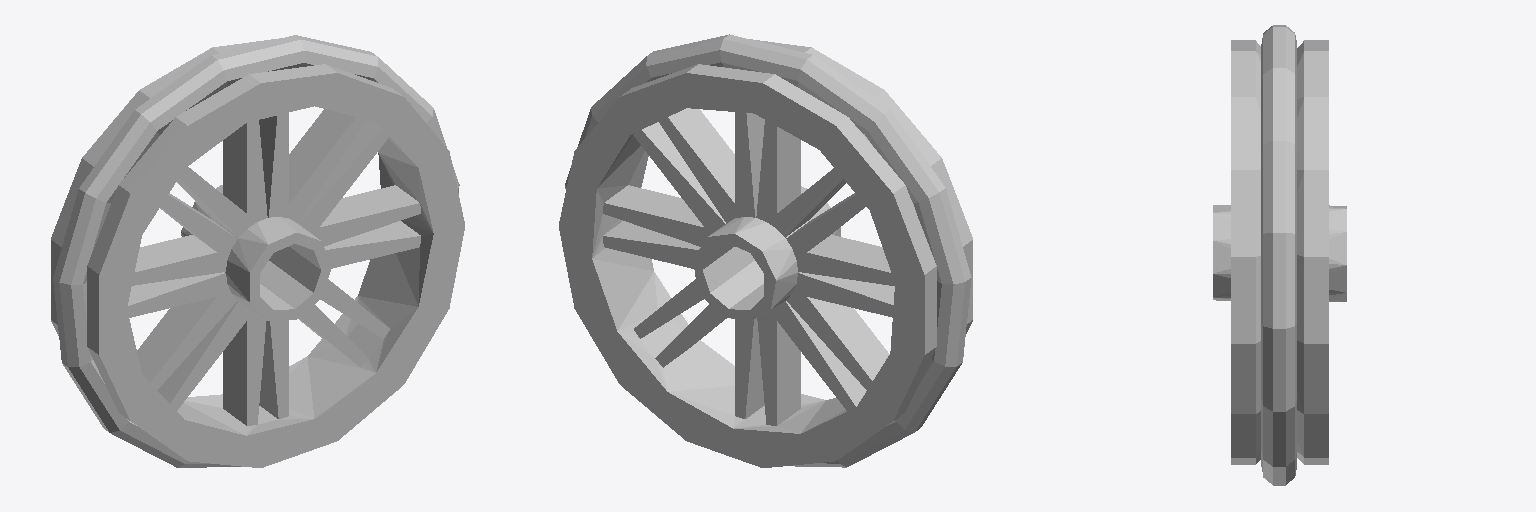
File: Пассивное колесо.obj
3 views of the same model, side by side, from view 1: azimuth 30°, elevation 25°; view 2: azimuth 150°, elevation 25°; view 3: azimuth 270°, elevation 25° (orthographic).
Parts seen in each view (by area): view 1: Твердое тело1, Твердое тело1:1; view 2: Твердое тело1, Твердое тело1:1; view 3: Твердое тело1, Твердое тело1:1.
Boxes of the visible parts, <box> form: Твердое тело1: <box>51,38,464,467</box>; Твердое тело1:1: <box>53,35,459,467</box>; Твердое тело1: <box>559,39,972,467</box>; Твердое тело1:1: <box>565,34,971,467</box>; Твердое тело1: <box>1213,40,1346,464</box>; Твердое тело1:1: <box>1261,25,1296,485</box>.
Bounding box in the file's own units: 18.93 × 18.87 × 5.5.